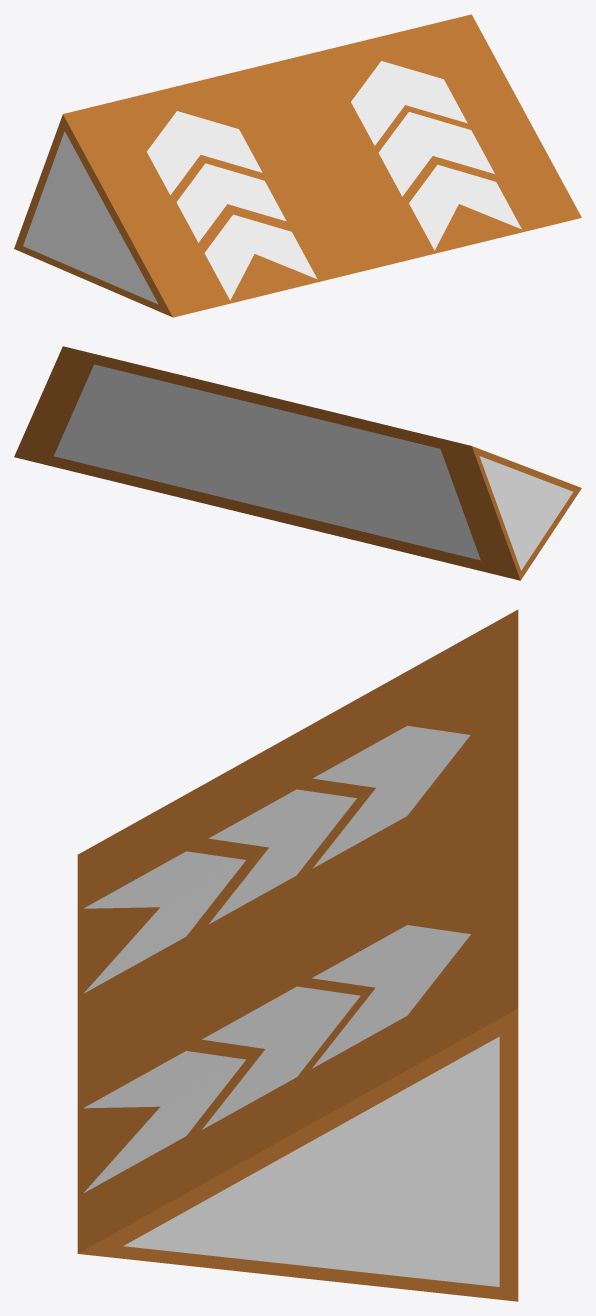
Rendered from rampa.fbx.
3 views of the same model, one above another, from view 1: azimuth 30°, elevation 25°; view 2: azimuth 150°, elevation 25°; view 3: azimuth 270°, elevation 25° (orthographic). The views are drawn at different scales.
Parts seen in each view (by area): view 1: Cube; view 2: Cube; view 3: Cube.
Part boxes in pixels (x1,y1,x2,y2): Cube: [14, 14, 581, 317]; Cube: [14, 346, 581, 580]; Cube: [77, 609, 518, 1301].
Bounding box in the file's own units: 863 × 200 × 325.
